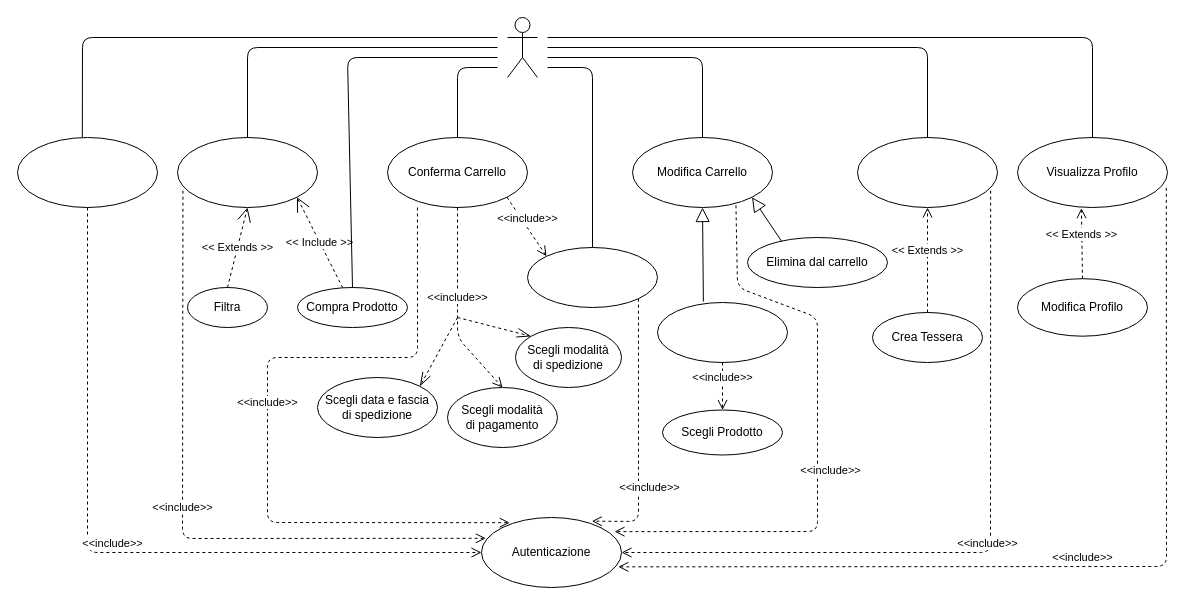
Image size: 1194x605. Some labels were removed from this diagram. The shapes that lost their labels are listed below. From the top down, each one's box as (x1, y1, x2, y2) in pixels, then its label:
(506, 16, 538, 78): Utente
(16, 136, 158, 208): Visualizza Storico Spese
(176, 136, 318, 208): Visualizza Catalogo
(856, 136, 998, 208): Visualizza Tessera Fedeltà
(526, 246, 658, 308): Visualizza Carrello
(656, 302, 788, 362): Aggiungere al carrello
